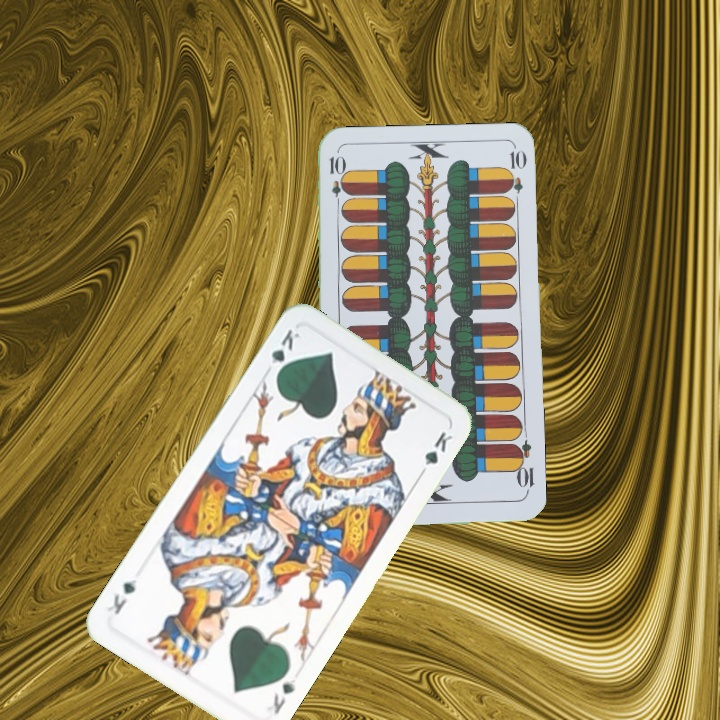E10: (509, 437, 537, 496), (325, 152, 345, 211)
GK: (261, 325, 302, 381), (269, 674, 299, 717)
